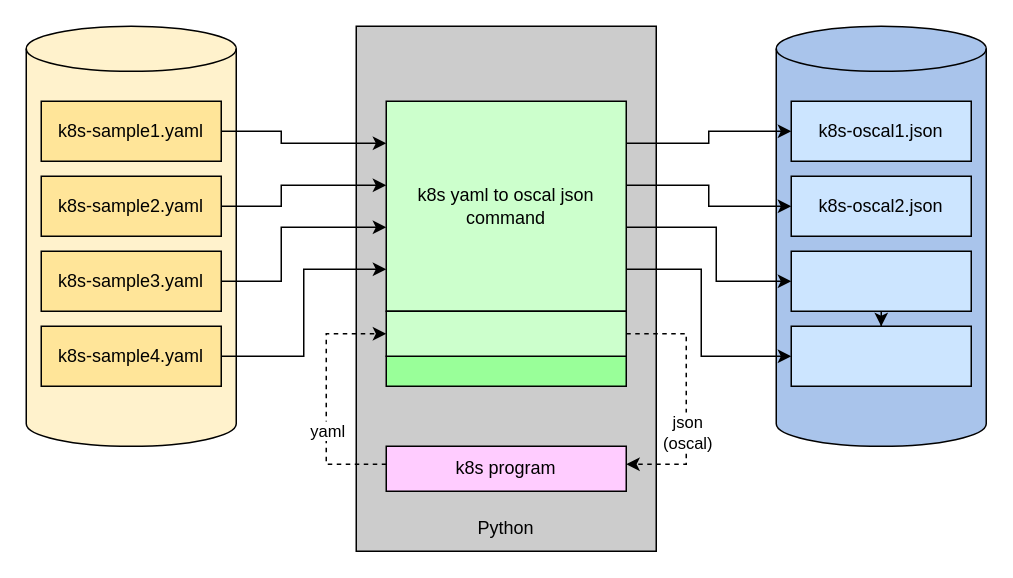
Image size: 1013x578. Some labels were removed from this diagram. The shapes that lost their labels are listed below. From the top down, each one's box as (x1, y1, x2, y2) in pixels, then its label:
(790, 250, 971, 311): k8s-oscal3.json
(385, 310, 626, 356): k8s yaml to oscal json API
(385, 355, 626, 386): trestle
(790, 325, 971, 386): k8s-oscal4.json
